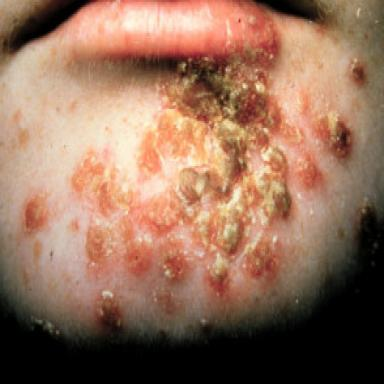Impetigo: (66, 12, 356, 334), (22, 193, 49, 234), (349, 58, 366, 85)
